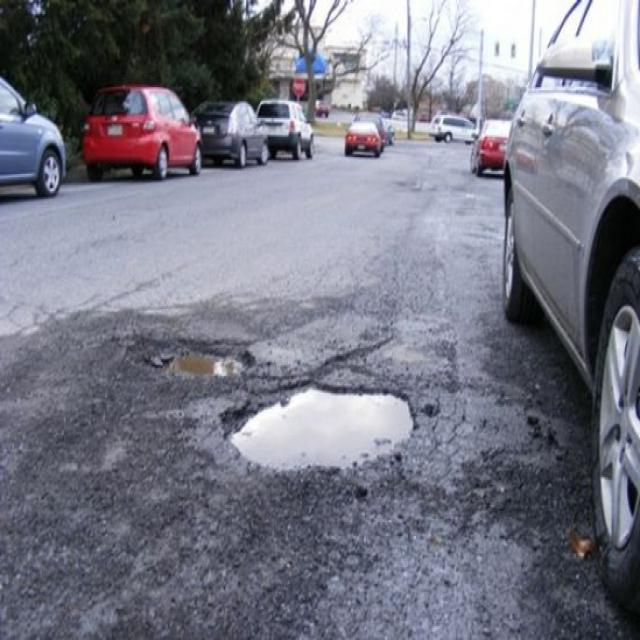pothole: (223, 378, 423, 478), (146, 334, 256, 382)
